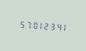five: (17, 18, 22, 29)
four: (53, 20, 58, 32)
one: (35, 19, 40, 30), (59, 21, 64, 32)
seven: (23, 18, 28, 29)
three: (47, 20, 52, 31)
two: (41, 19, 46, 31)
zero: (29, 19, 34, 30)
